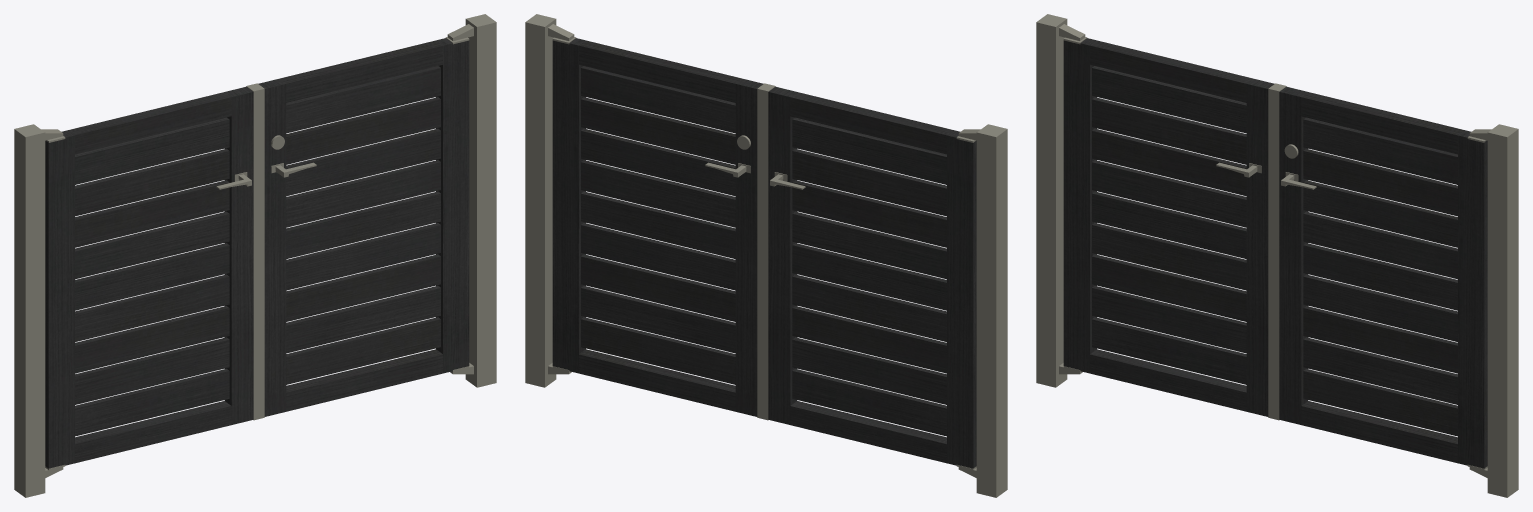
The model's file is awmonpi2-102yoko_h1200-w800-800_chacoalgrey.fbx.
The picture shows the model from 3 angles, left to right: view 1: azimuth 30°, elevation 25°; view 2: azimuth 150°, elevation 25°; view 3: azimuth 330°, elevation 25°; orthographic projection.
Visible parts, largest first — view 1: awmonpi2-102yoko_h1200-w800-800_chacoalgray.002; view 2: awmonpi2-102yoko_h1200-w800-800_chacoalgray.002; view 3: awmonpi2-102yoko_h1200-w800-800_chacoalgray.002.
Boxes of the visible parts, x1,y1,x2,y2 form: awmonpi2-102yoko_h1200-w800-800_chacoalgray.002: (14, 14, 496, 497); awmonpi2-102yoko_h1200-w800-800_chacoalgray.002: (525, 14, 1007, 497); awmonpi2-102yoko_h1200-w800-800_chacoalgray.002: (1036, 14, 1518, 497).
Bounding box in the file's own units: 180 × 132 × 16.7.
2 materials, 2 textured.
